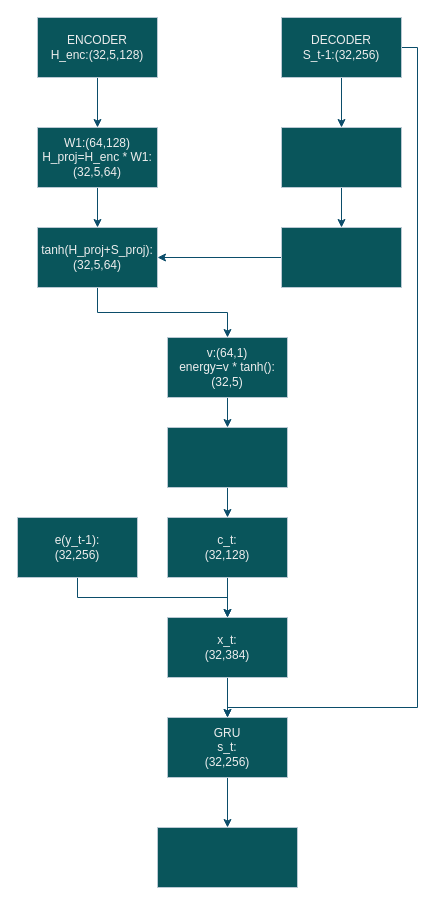
This 443x905 diagram has some shape labels left out. The box of each missing label's shape, as (x1, y1, x2, y2) in pixels:
Broadcasting S_proj:(32,1,64): (280, 226, 402, 288)
Forward Nerwork(s_t,c_t,e(y_t-1)) p:(32,V): (156, 826, 298, 888)
softmax(energy): (32,5): (166, 426, 288, 488)
W2:(64,256) S_proj=S_t-1 * W2: (32,64): (280, 126, 402, 188)
